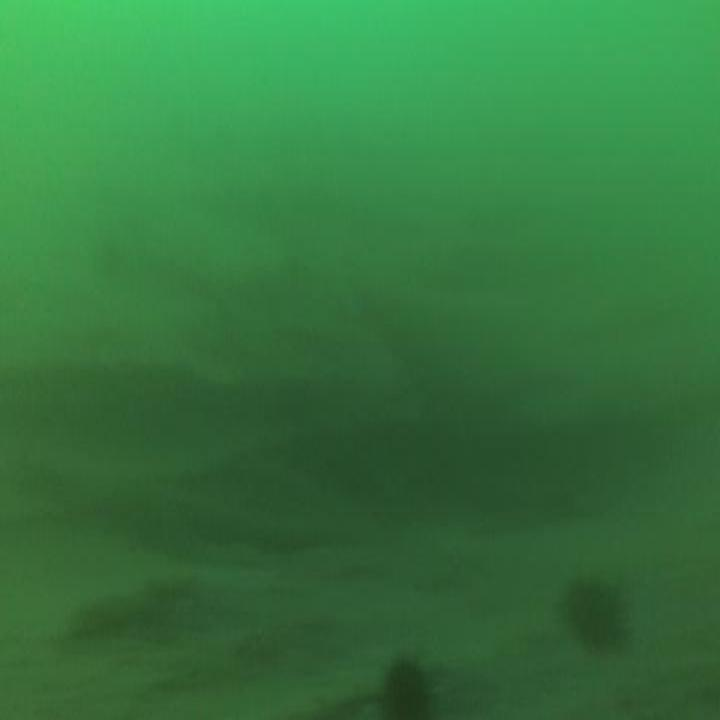echinus: (558, 567, 629, 661), (373, 647, 433, 720)
